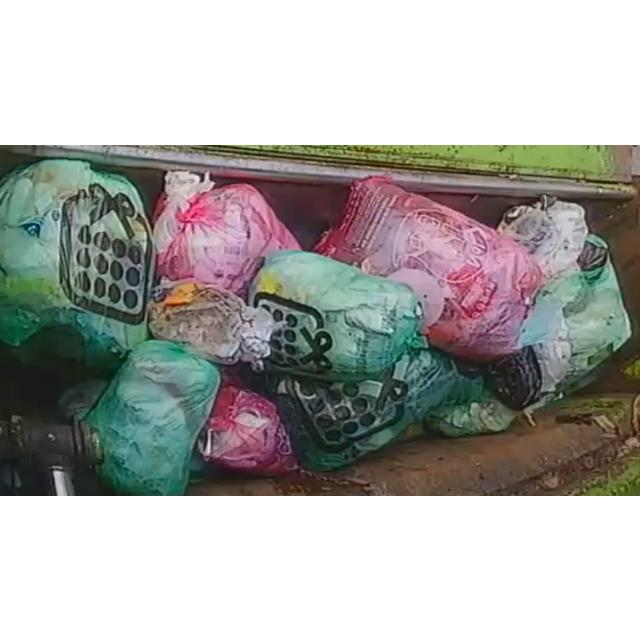general_trashbag: (0, 159, 152, 369), (266, 334, 484, 469), (252, 249, 422, 381), (85, 339, 220, 494), (520, 233, 631, 398)
other_trashbag: (315, 175, 544, 360), (154, 170, 299, 297), (199, 385, 299, 474)
